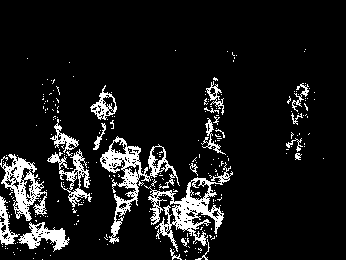person: (1, 154, 64, 245), (100, 137, 140, 241), (171, 179, 212, 260), (143, 145, 177, 236), (51, 134, 90, 210), (193, 129, 232, 184), (285, 83, 312, 161), (89, 90, 118, 150), (203, 74, 224, 141)
